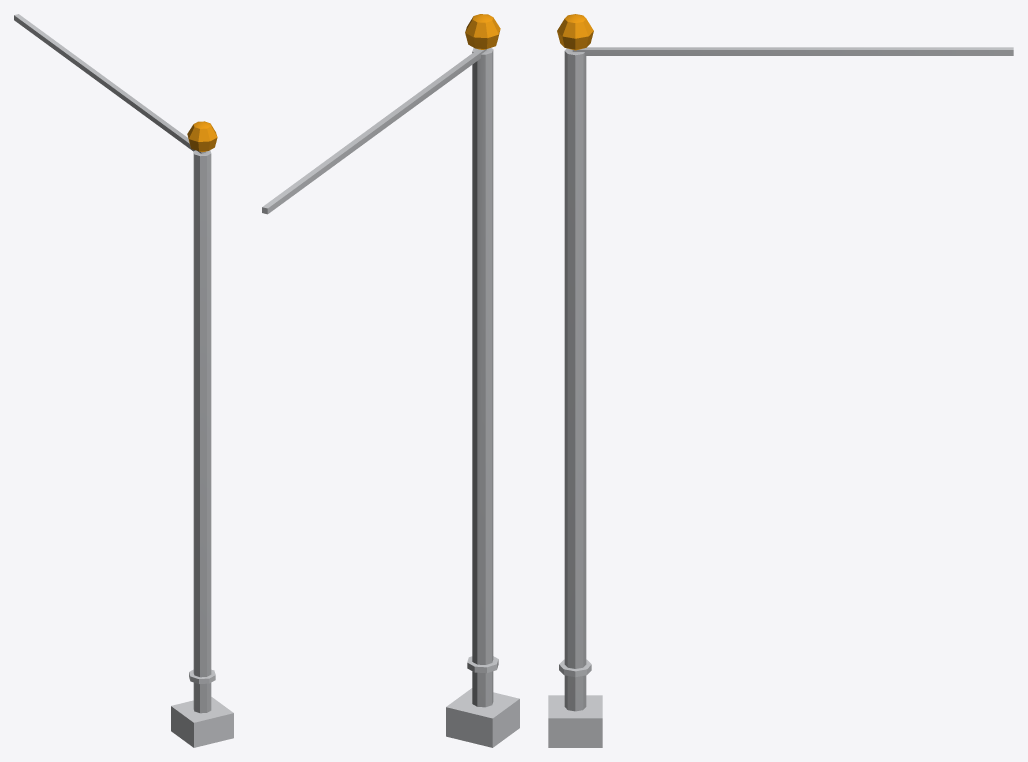
The model's file is flagpole.glb.
3 renders of one model, left to right at view 1: azimuth 30°, elevation 25°; view 2: azimuth 150°, elevation 25°; view 3: azimuth 270°, elevation 25°, orthographic. The views are drawn at different scales.
Visible parts, largest first — view 1: pole_light, pole_cap; view 2: pole_light, pole_cap; view 3: pole_light, pole_cap.
Part boxes in pixels (bbox=[...]): pole_light: bbox=[14, 14, 233, 747]; pole_cap: bbox=[187, 121, 217, 152]; pole_light: bbox=[262, 48, 519, 747]; pole_cap: bbox=[465, 14, 500, 49]; pole_light: bbox=[548, 47, 1013, 747]; pole_cap: bbox=[557, 14, 593, 50].
Bounding box in the file's own units: 1 × 14.62 × 8.55.
